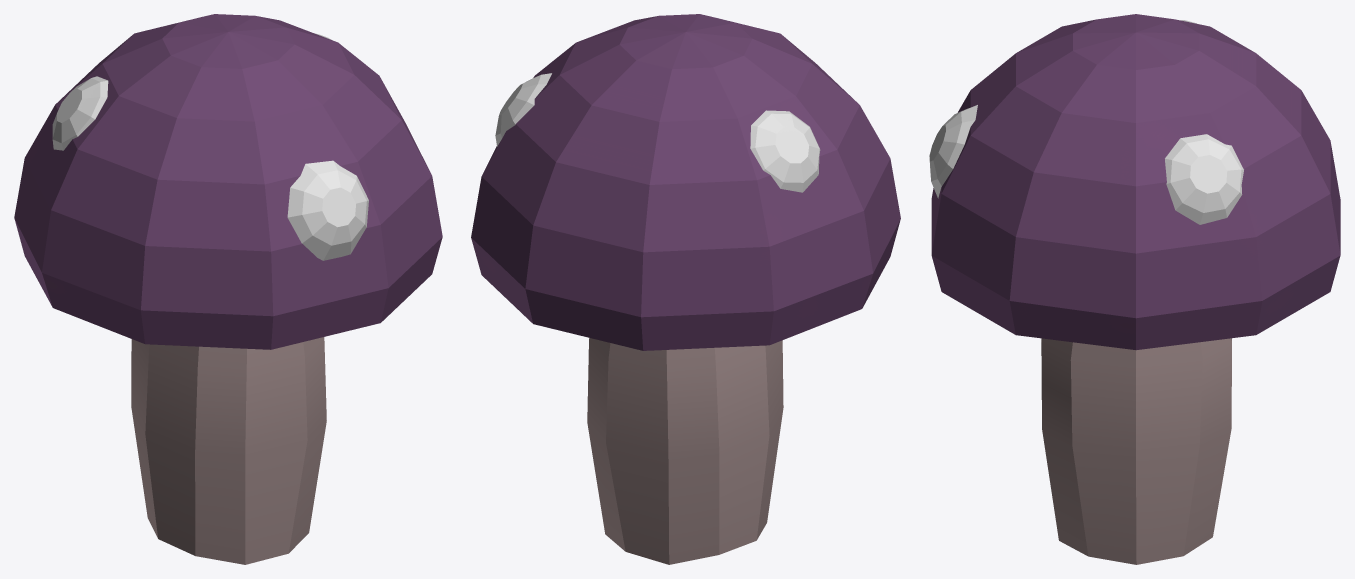
File: purple mushroom fbx.fbx
The picture shows the model from 3 angles, left to right: view 1: azimuth 30°, elevation 25°; view 2: azimuth 150°, elevation 25°; view 3: azimuth 270°, elevation 25°; orthographic projection.
Parts seen in each view (by area): view 1: polySurface27; view 2: polySurface27; view 3: polySurface27.
Boxes of the visible parts, box(x1,y1,x2,y2) form: polySurface27: box(14, 14, 442, 564); polySurface27: box(471, 14, 900, 564); polySurface27: box(929, 14, 1340, 564).
Size of the model in its own units: 2 by 2.58 by 1.91.
Materials: 1 (1 with a texture image).
